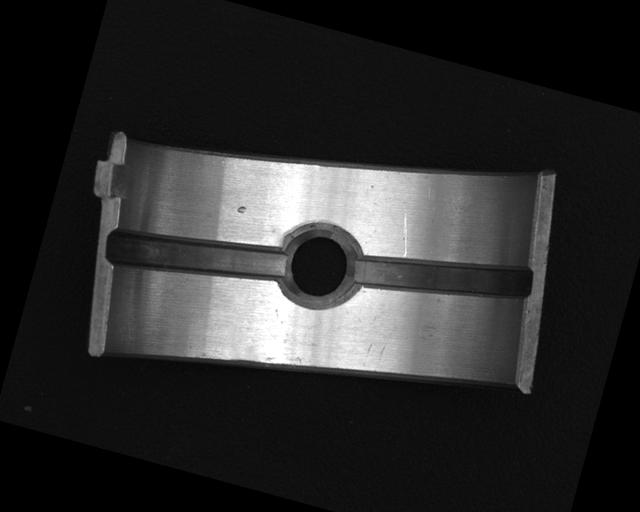bruise: (235, 204, 247, 215)
gap: (349, 223, 535, 329), (102, 207, 290, 307)
hole: (272, 214, 370, 318)
nick: (392, 210, 418, 258)
